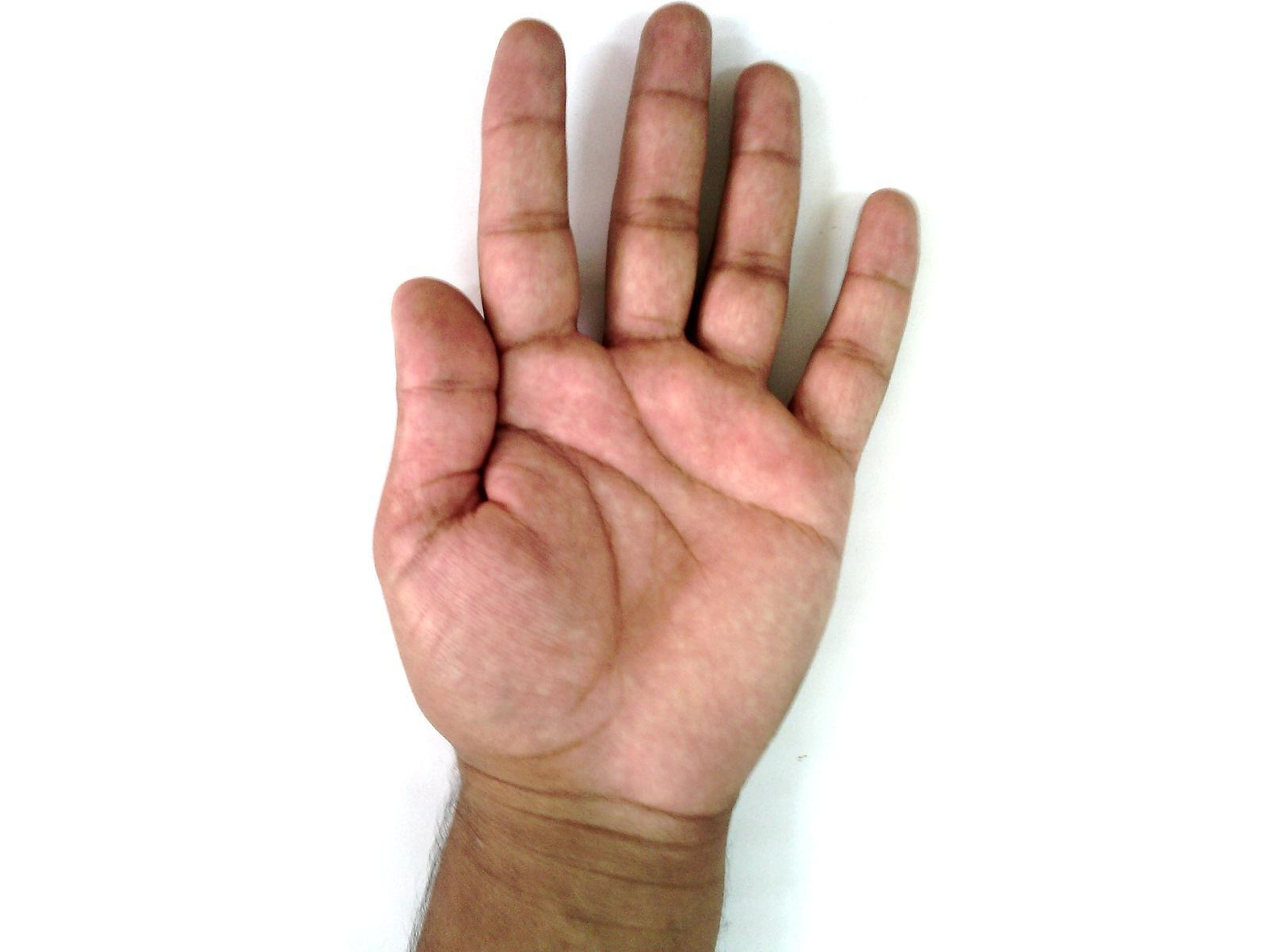open_palm: (370, 6, 925, 820)
